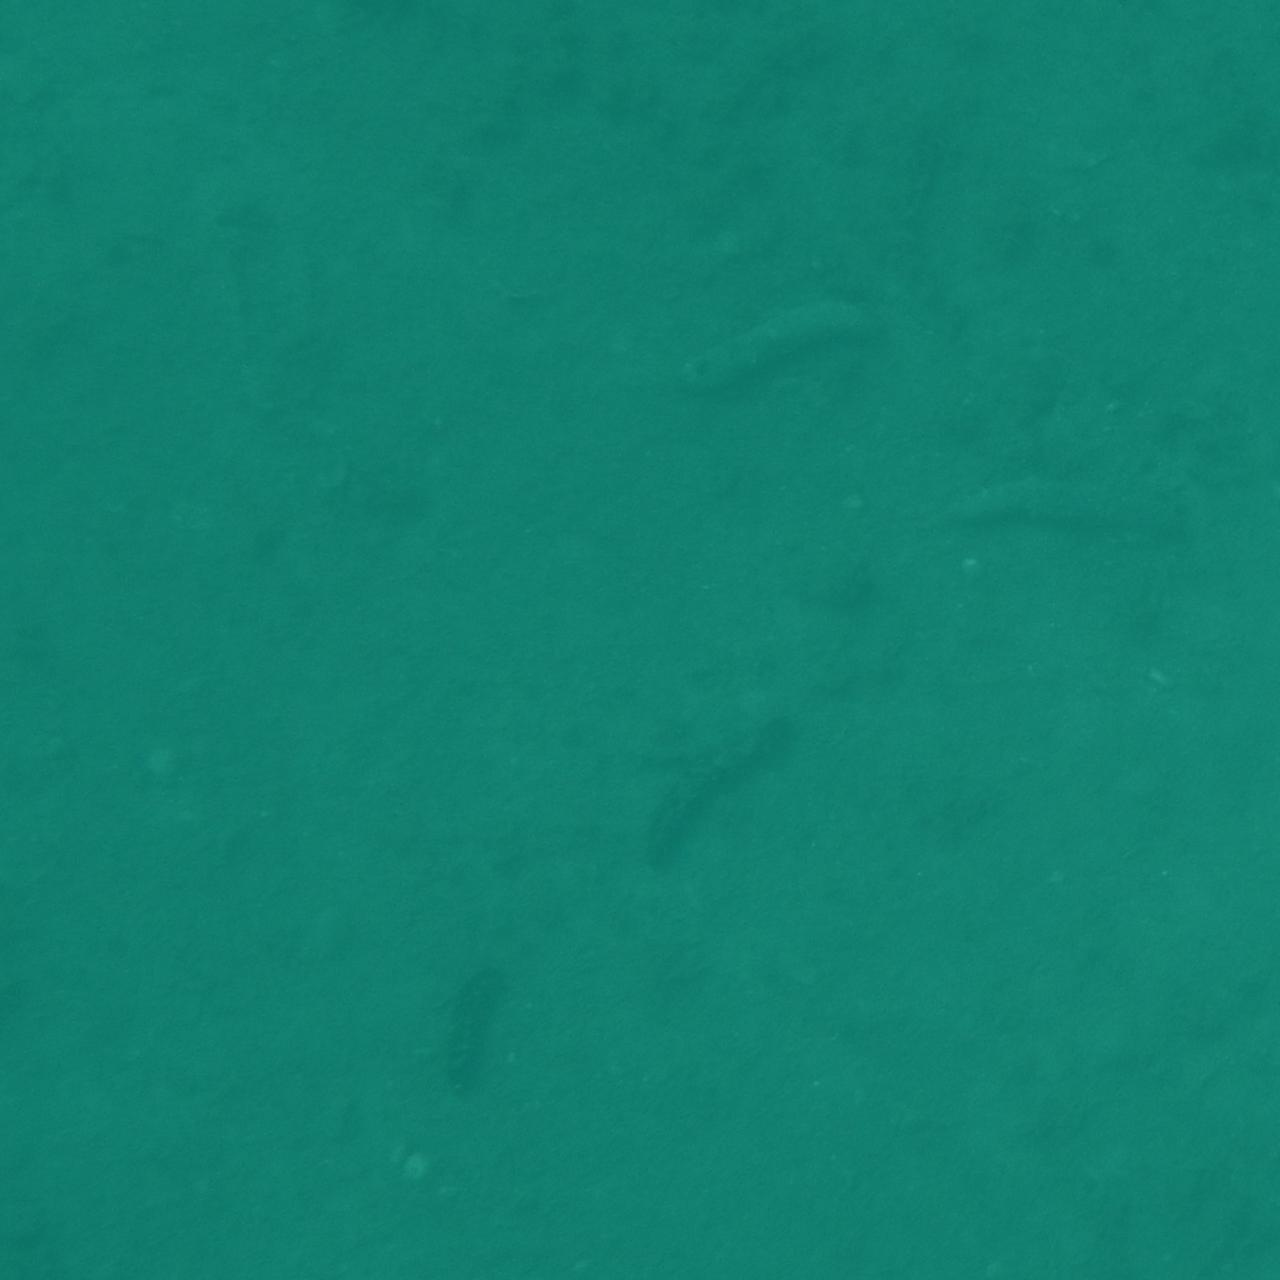Holothuria tubulosa: (658, 267, 921, 415), (905, 449, 1212, 567), (633, 697, 803, 908), (416, 948, 538, 1124), (205, 1159, 370, 1280), (1194, 0, 1280, 189), (0, 1201, 165, 1280), (0, 0, 137, 94), (1160, 0, 1280, 105), (1167, 0, 1280, 102), (291, 0, 465, 62), (0, 1178, 77, 1280), (0, 1142, 56, 1280)
